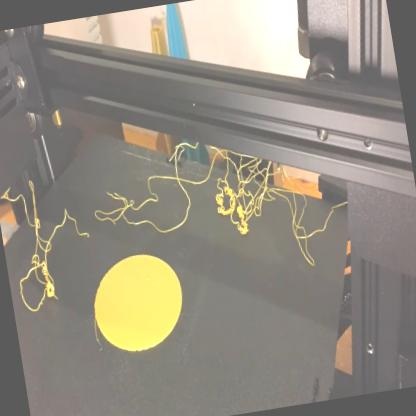fail: (91, 148, 334, 260), (1, 173, 98, 315)
